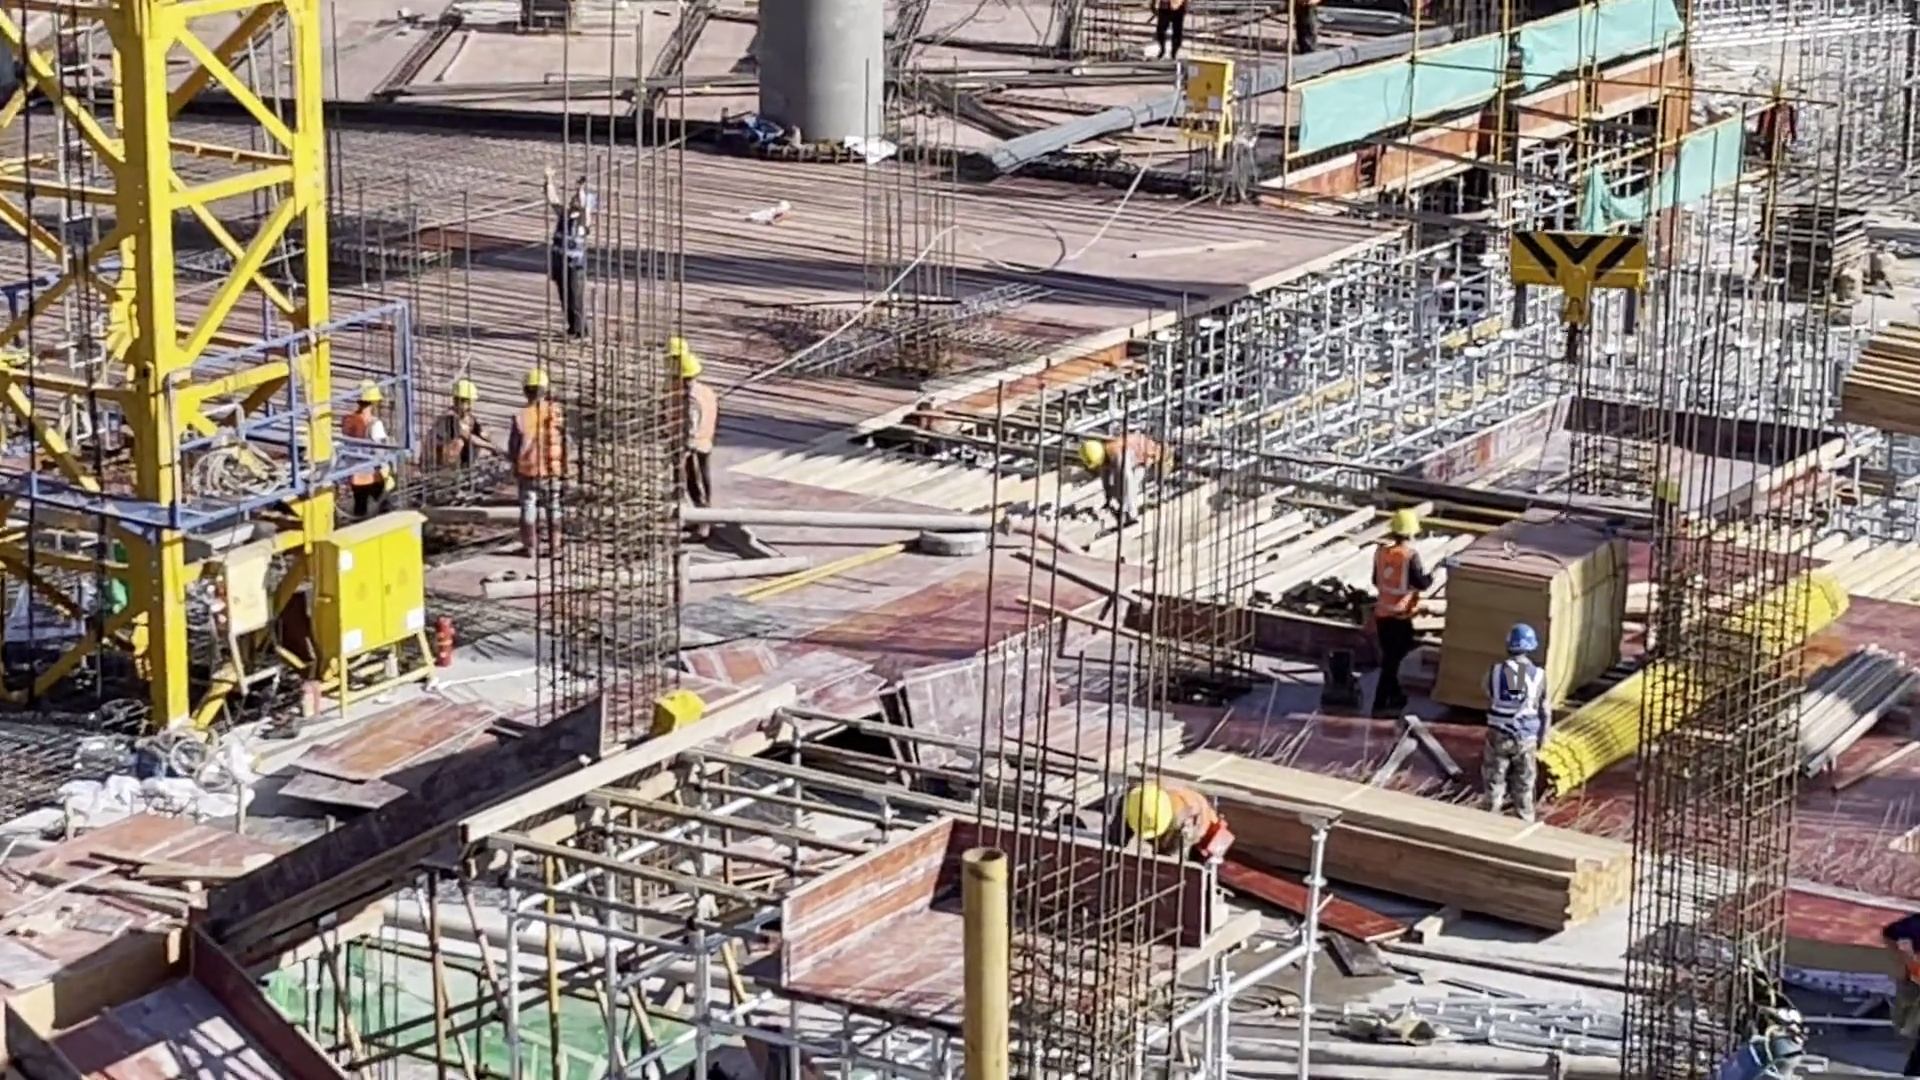board: (1439, 507, 1621, 694), (1768, 189, 1878, 297)
ebox: (301, 514, 438, 682), (208, 544, 286, 641), (641, 681, 731, 757), (1181, 67, 1226, 131)
helmet: (1124, 789, 1181, 842), (1384, 512, 1458, 547), (1501, 624, 1556, 666), (1079, 437, 1111, 489), (573, 174, 609, 211), (521, 362, 553, 399), (678, 342, 706, 382), (1771, 72, 1799, 111), (664, 327, 688, 367), (361, 381, 391, 407), (459, 382, 474, 399)
hook: (1524, 234, 1624, 362)
person: (1103, 768, 1239, 885), (1365, 497, 1430, 715), (1069, 407, 1167, 522), (505, 375, 566, 544), (1495, 625, 1547, 819), (545, 165, 599, 347), (338, 378, 396, 513), (432, 372, 490, 474), (679, 352, 707, 525), (1758, 82, 1797, 195), (659, 328, 688, 482), (1296, 1, 1328, 54), (1158, 1, 1182, 68)
rebar: (973, 6, 1479, 178)
vest: (1129, 782, 1234, 854), (1486, 647, 1544, 736), (509, 409, 548, 509), (1373, 542, 1414, 629), (348, 424, 399, 489), (679, 386, 706, 492), (1111, 427, 1174, 467), (544, 222, 594, 272), (654, 349, 676, 454), (1764, 104, 1799, 169), (441, 409, 466, 479)
wood: (1199, 739, 1588, 917), (1858, 324, 1920, 419)
